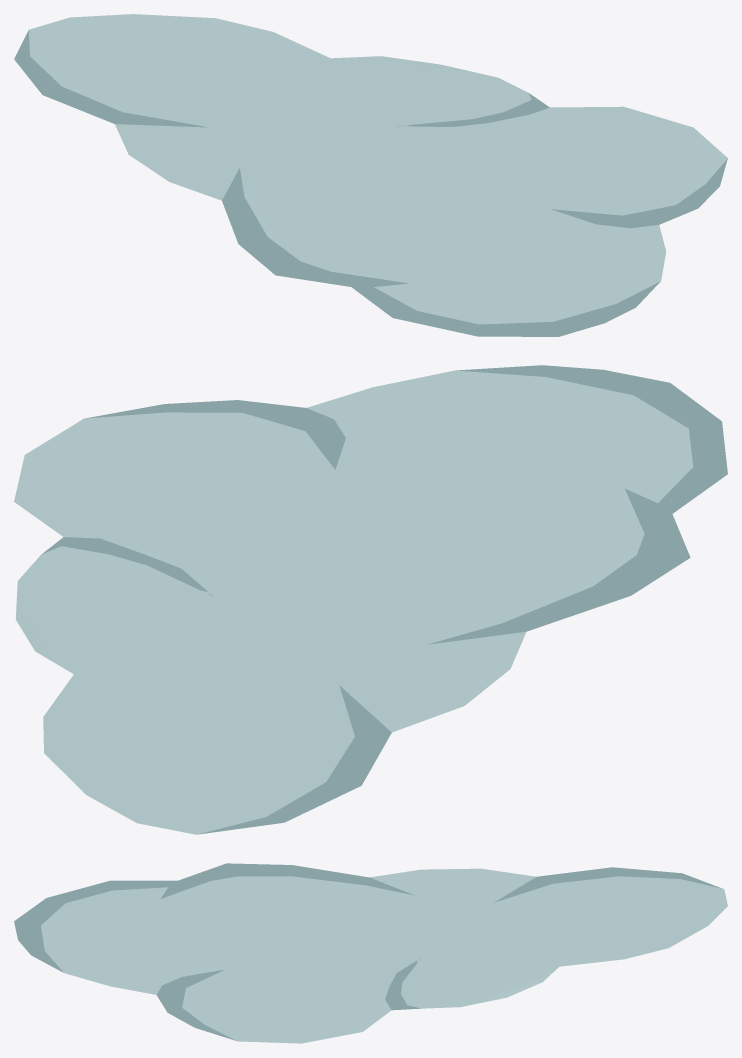
The model's file is Cloud_01.fbx.
3 renders of one model, top to bottom at view 1: azimuth 30°, elevation 25°; view 2: azimuth 150°, elevation 25°; view 3: azimuth 270°, elevation 25°, orthographic. The views are drawn at different scales.
Visible parts, largest first — view 1: Cloud_01; view 2: Cloud_01; view 3: Cloud_01.
Boxes of the visible parts, bbox=[...] form: Cloud_01: bbox=[14, 14, 727, 336]; Cloud_01: bbox=[14, 365, 727, 834]; Cloud_01: bbox=[14, 863, 727, 1043].
Bounding box in the file's own units: 176 × 1.43 × 296.
1 material, 1 textured.
